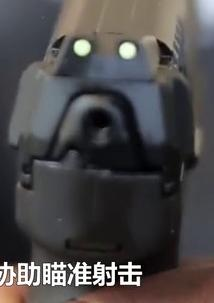gun: (1, 1, 214, 303)
